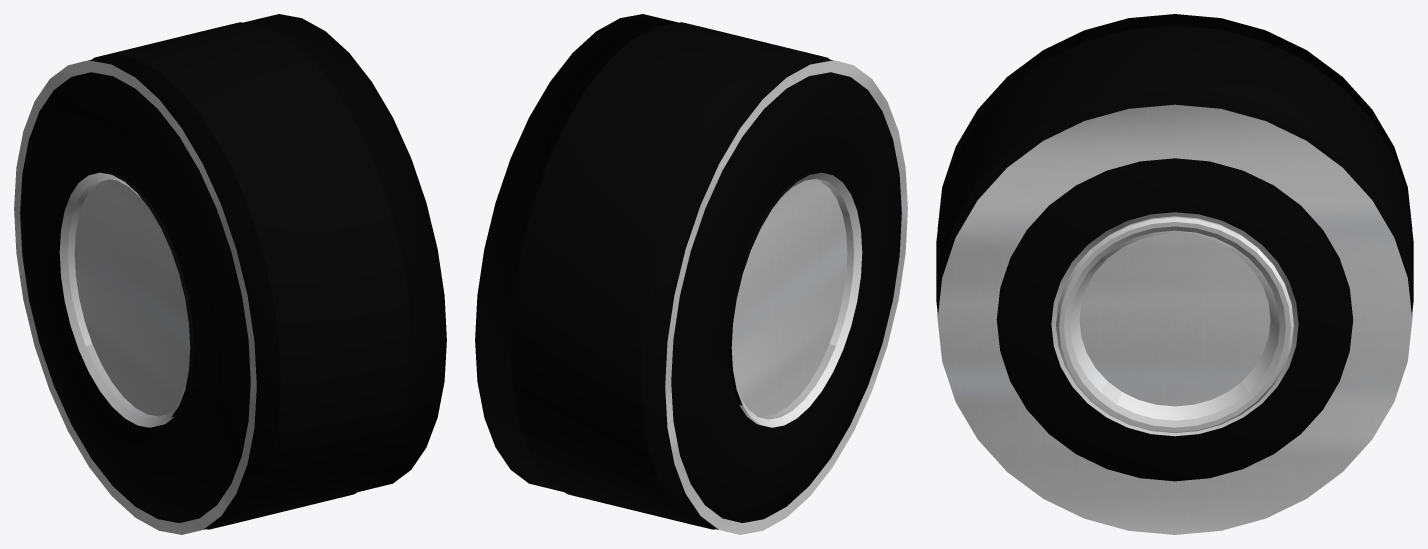
Rendered from gokart2_rearwheel.fbx.
3 renders of one model, left to right at view 1: azimuth 30°, elevation 25°; view 2: azimuth 150°, elevation 25°; view 3: azimuth 270°, elevation 25°, orthographic. The views are drawn at different scales.
Visible parts, largest first — view 1: Cylinder.001, Cylinder; view 2: Cylinder.001, Cylinder; view 3: Cylinder, Cylinder.001.
Boxes of the visible parts, x1=… form: Cylinder.001: x1=20, y1=22, x2=411, y2=529; Cylinder: x1=14, y1=14, x2=446, y2=534; Cylinder.001: x1=510, y1=22, x2=901, y2=529; Cylinder: x1=475, y1=14, x2=907, y2=534; Cylinder: x1=937, y1=14, x2=1412, y2=534; Cylinder.001: x1=936, y1=25, x2=1413, y2=481.
Bounding box in the file's own units: 0.1893 × 0.3706 × 0.3706.
